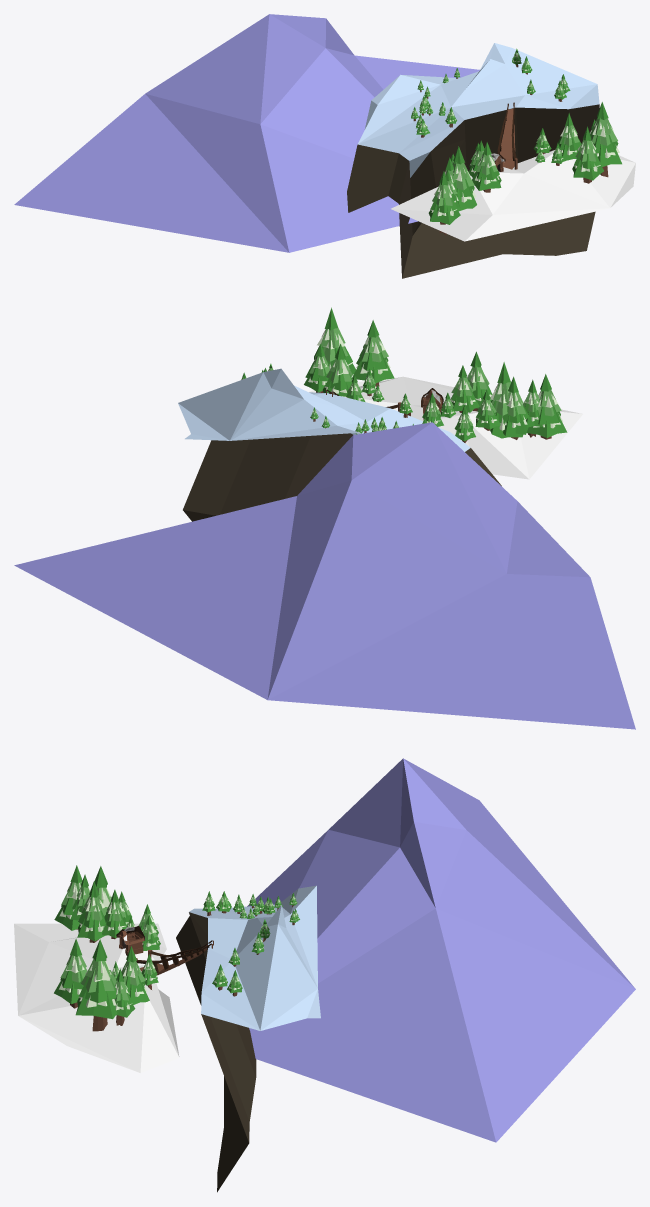
Rendered from SCENE BRIDGE.fbx.
The picture shows the model from 3 angles, top to bottom: view 1: azimuth 30°, elevation 25°; view 2: azimuth 150°, elevation 25°; view 3: azimuth 270°, elevation 25°; orthographic projection. The views are drawn at different scales.
Visible parts, largest first — view 1: Plane.003; view 2: Plane.003; view 3: Plane.003.
Boxes of the visible parts, bbox=[...] form: Plane.003: bbox=[14, 14, 635, 278]; Plane.003: bbox=[14, 307, 635, 729]; Plane.003: bbox=[14, 758, 635, 1192].
Bounding box in the file's own units: 22430 × 9876 × 19103.
